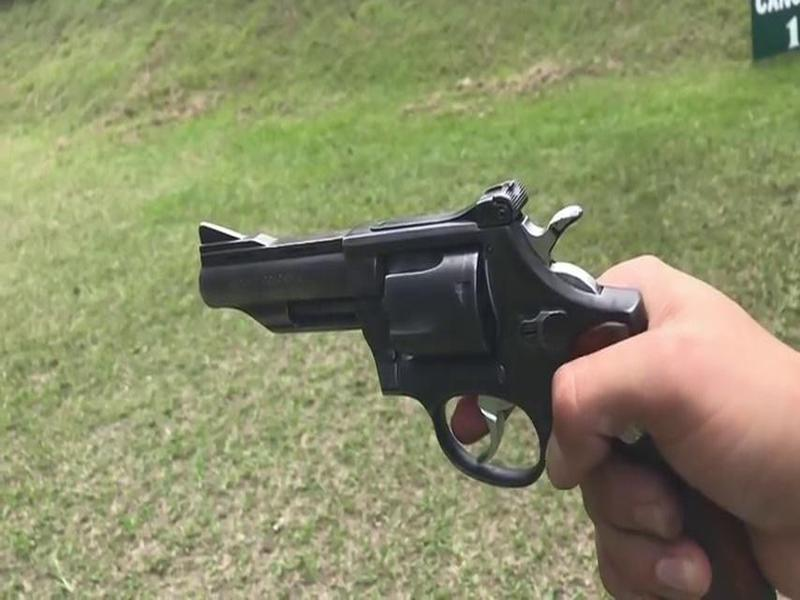Revolver: (194, 164, 704, 506)
